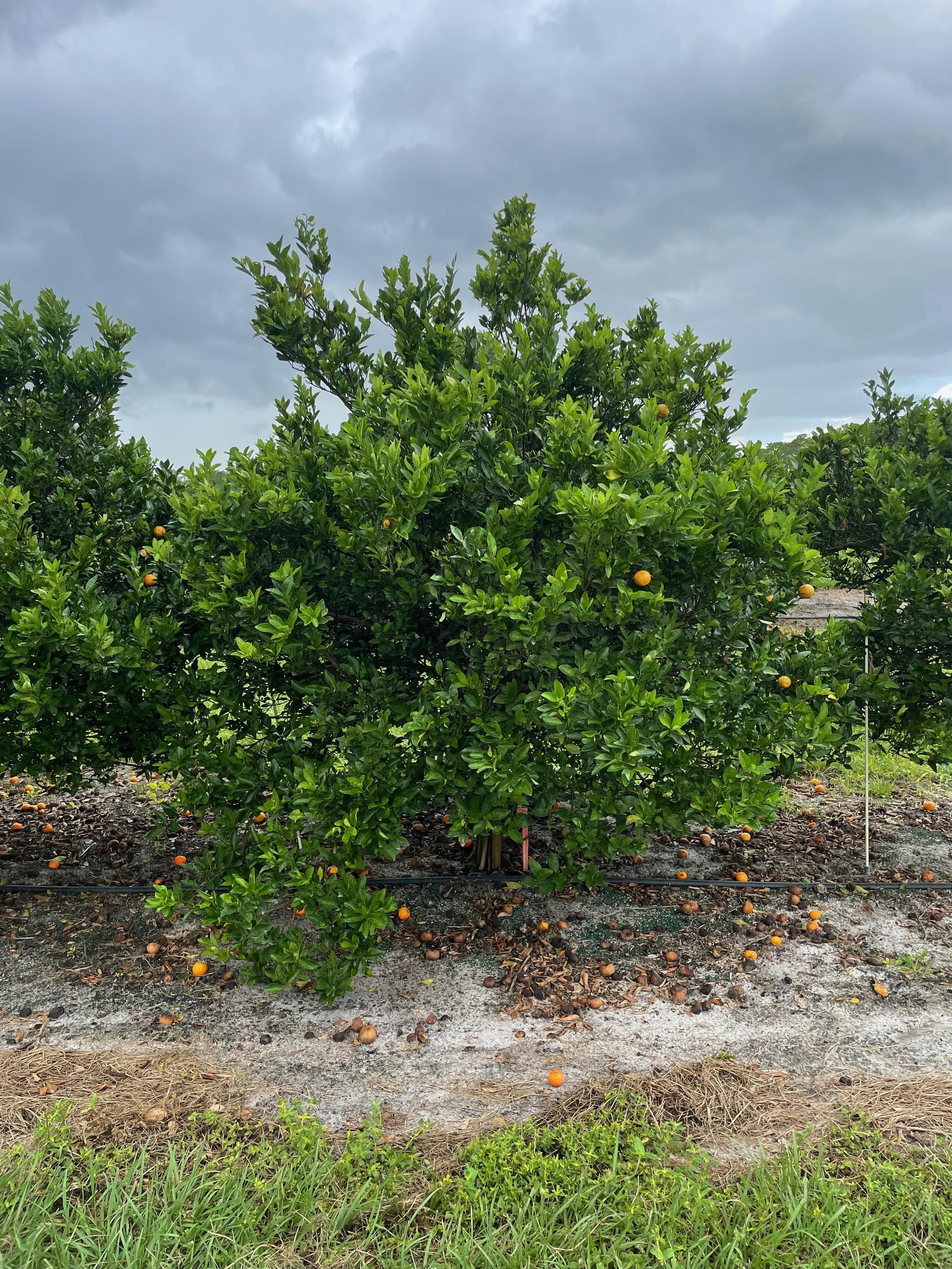fruit_on_ground: (380, 510, 405, 534), (632, 567, 653, 588), (653, 400, 672, 421), (796, 582, 817, 600), (142, 571, 160, 588), (776, 673, 794, 690), (292, 902, 309, 918), (152, 524, 168, 540), (252, 810, 268, 825)
fruit_on_tree: (357, 1025, 379, 1045), (190, 960, 210, 978), (548, 1067, 566, 1087), (157, 1010, 175, 1026), (144, 940, 161, 956), (395, 904, 412, 920), (599, 961, 616, 977), (172, 852, 189, 867), (619, 928, 636, 942), (418, 930, 434, 944), (922, 799, 938, 813), (733, 869, 749, 883), (424, 949, 441, 962), (106, 838, 122, 851), (663, 948, 679, 961), (743, 947, 759, 960), (788, 893, 802, 907), (536, 918, 550, 932), (679, 963, 694, 976), (742, 900, 755, 915), (483, 975, 497, 988), (656, 832, 670, 845), (698, 832, 712, 845), (808, 907, 822, 920), (47, 857, 61, 870), (680, 902, 694, 915), (440, 812, 453, 825), (770, 933, 783, 946), (676, 847, 689, 860), (460, 836, 474, 848), (805, 920, 819, 932), (23, 782, 35, 794), (740, 831, 752, 843), (801, 807, 814, 818), (741, 823, 754, 834), (677, 868, 690, 879), (11, 820, 24, 831), (42, 822, 55, 833), (814, 783, 826, 794), (632, 853, 644, 864), (413, 822, 425, 833), (809, 776, 822, 786), (556, 919, 569, 929), (9, 774, 21, 784), (807, 820, 818, 830), (129, 774, 140, 784), (36, 801, 47, 811), (20, 802, 32, 811), (28, 803, 40, 812), (148, 773, 157, 779)
